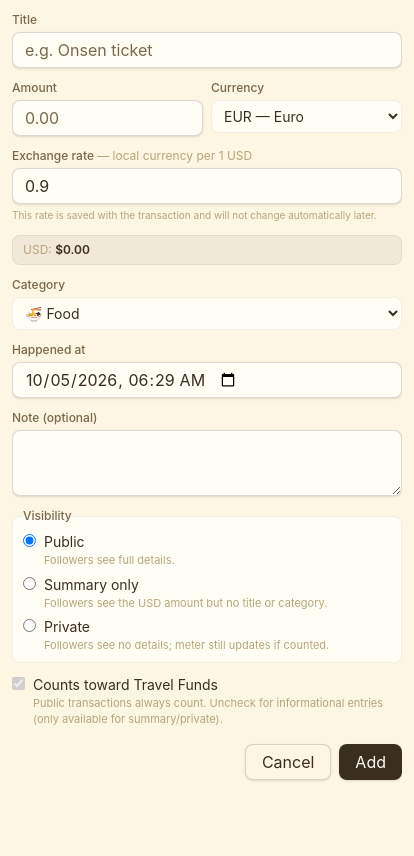
Test: TransactionForm Persistence › drops invalid rate entries but keeps valid ones
The image size is (414, 856).
Check: the field labelled "Exchange rate — local currency per 1 USD" holds "0.9", box [12, 168, 402, 204]
Note: JPY had a negative stored rate, so it should fall back to "1"
Select "JPY — Japanese Yen" in the dropdown labelled "Currency" at (306, 116), box [211, 100, 402, 133]
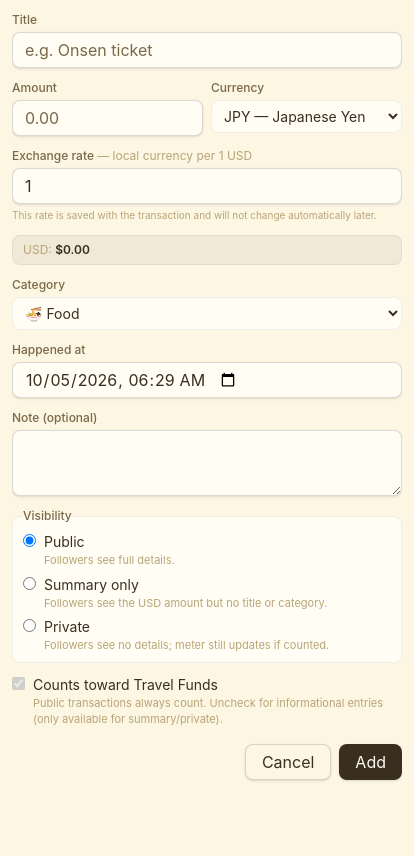
Check: the field labelled "Exchange rate — local currency per 1 USD" holds "1", box [12, 168, 402, 204]
